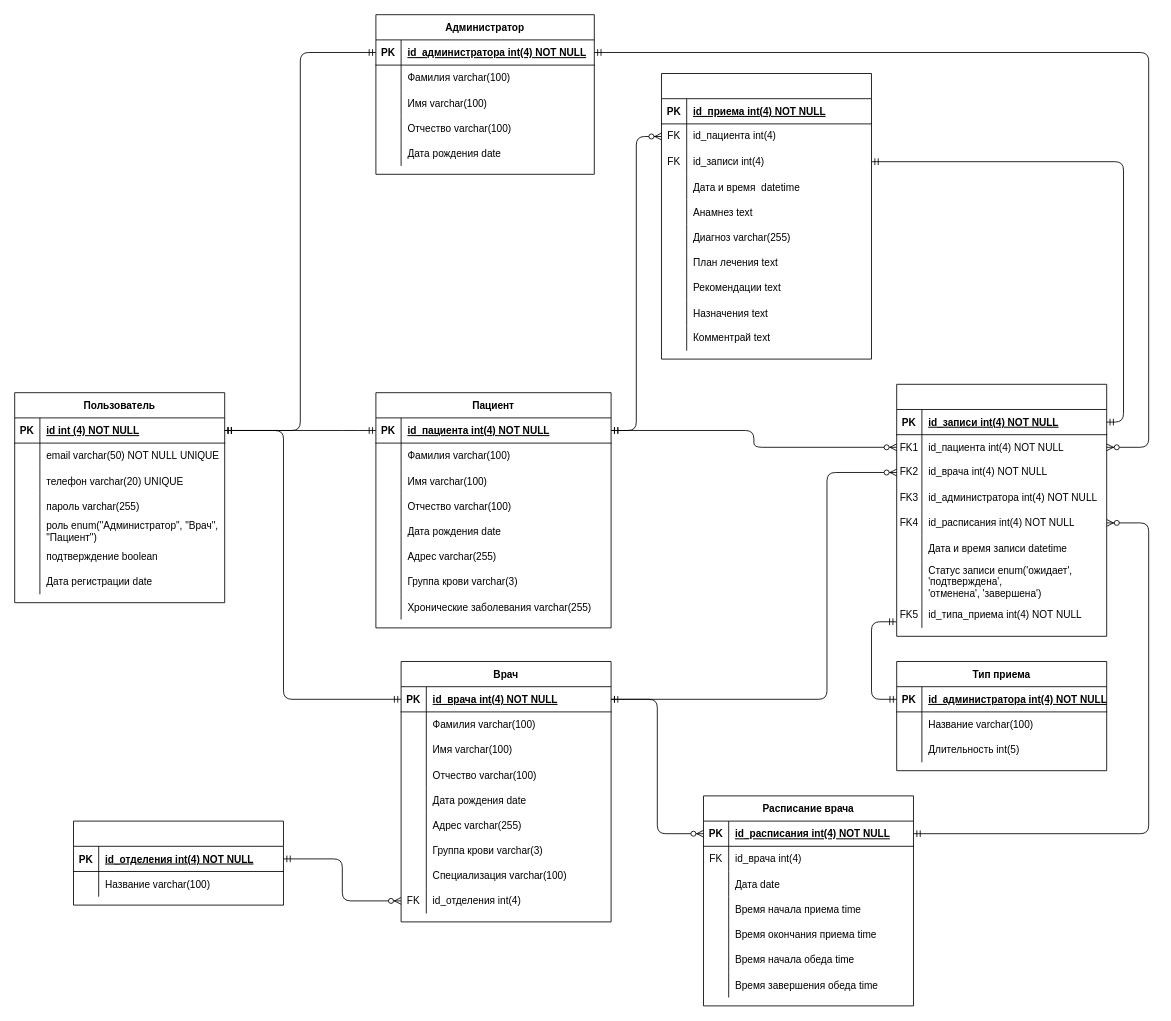
Image size: 1171x1021. Some labels were removed from this diagram. Each missing label, with the box of its shape:
Запись на прием: (896, 383, 1107, 636)
Информация приема: (661, 73, 872, 359)
Отделение: (73, 820, 284, 905)
